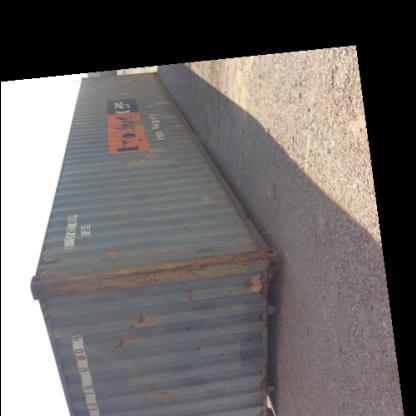Damage: (44, 252, 226, 300), (232, 274, 263, 296), (142, 379, 172, 400), (196, 172, 214, 206), (104, 336, 127, 360), (125, 309, 149, 331), (113, 118, 139, 136), (162, 122, 181, 138), (187, 342, 205, 354)
